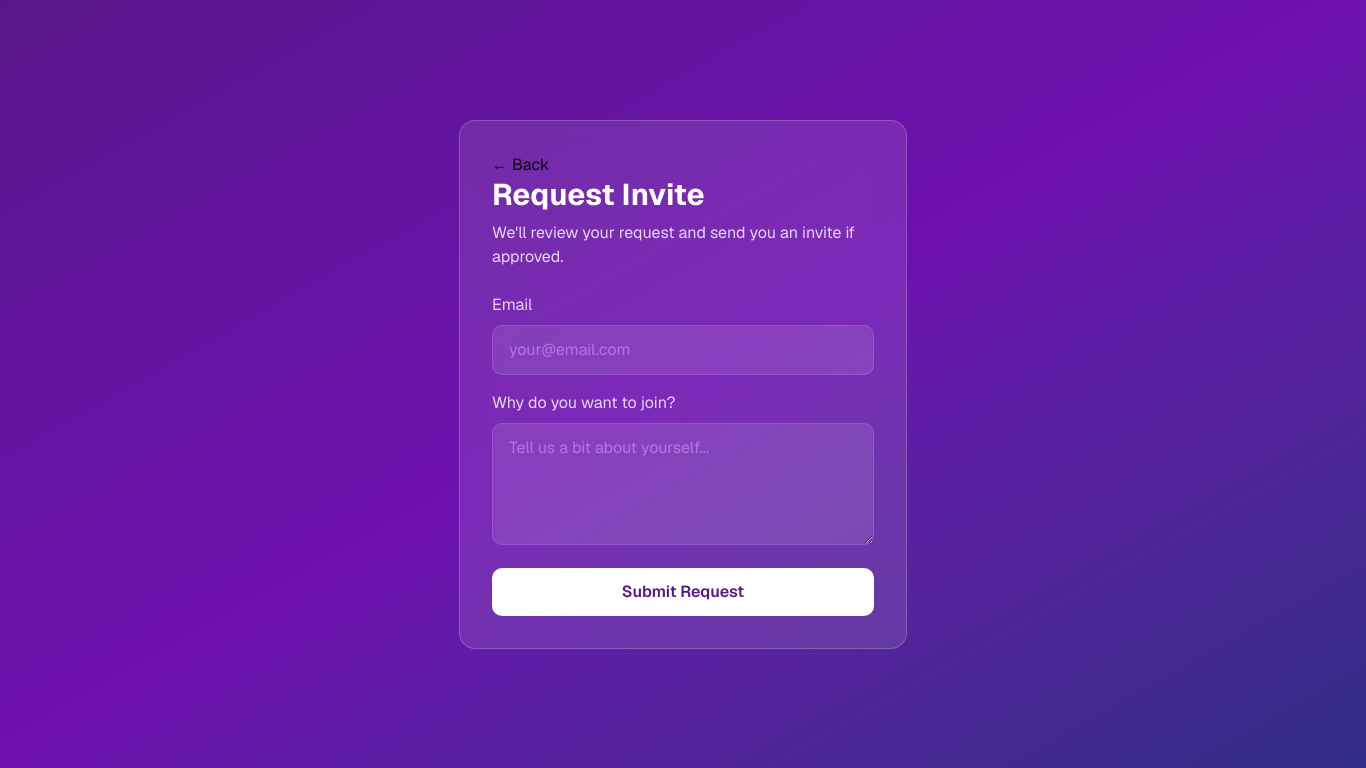
Test: RequestInvitePage › submits form successfully
This screenshot has width=1366, height=768.
Step 1. Type "test@example.com" into the field labelled "Email" → (683, 350), box [492,324,874,374]
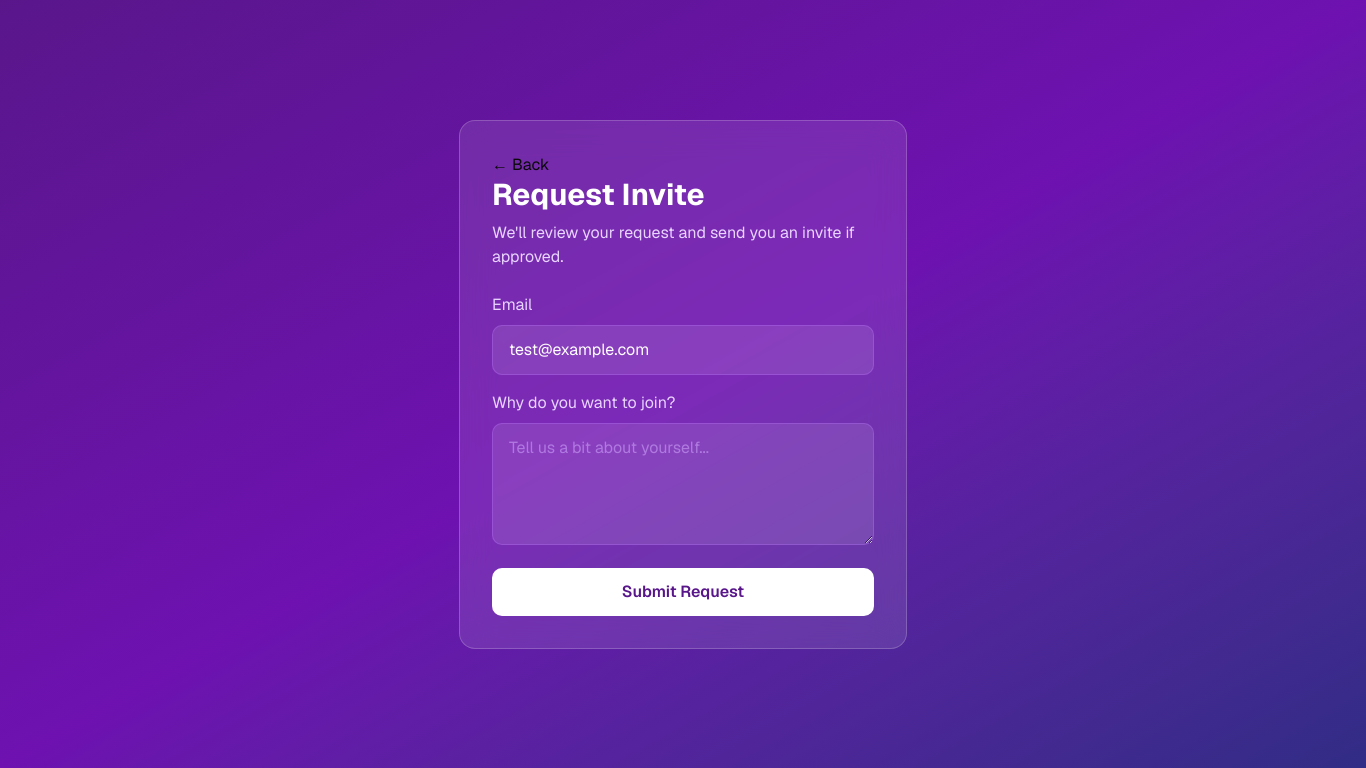
Step 2. Type "I love learning!" into the text box labelled "Why do you want to join?" → (683, 484), box [492,422,874,544]
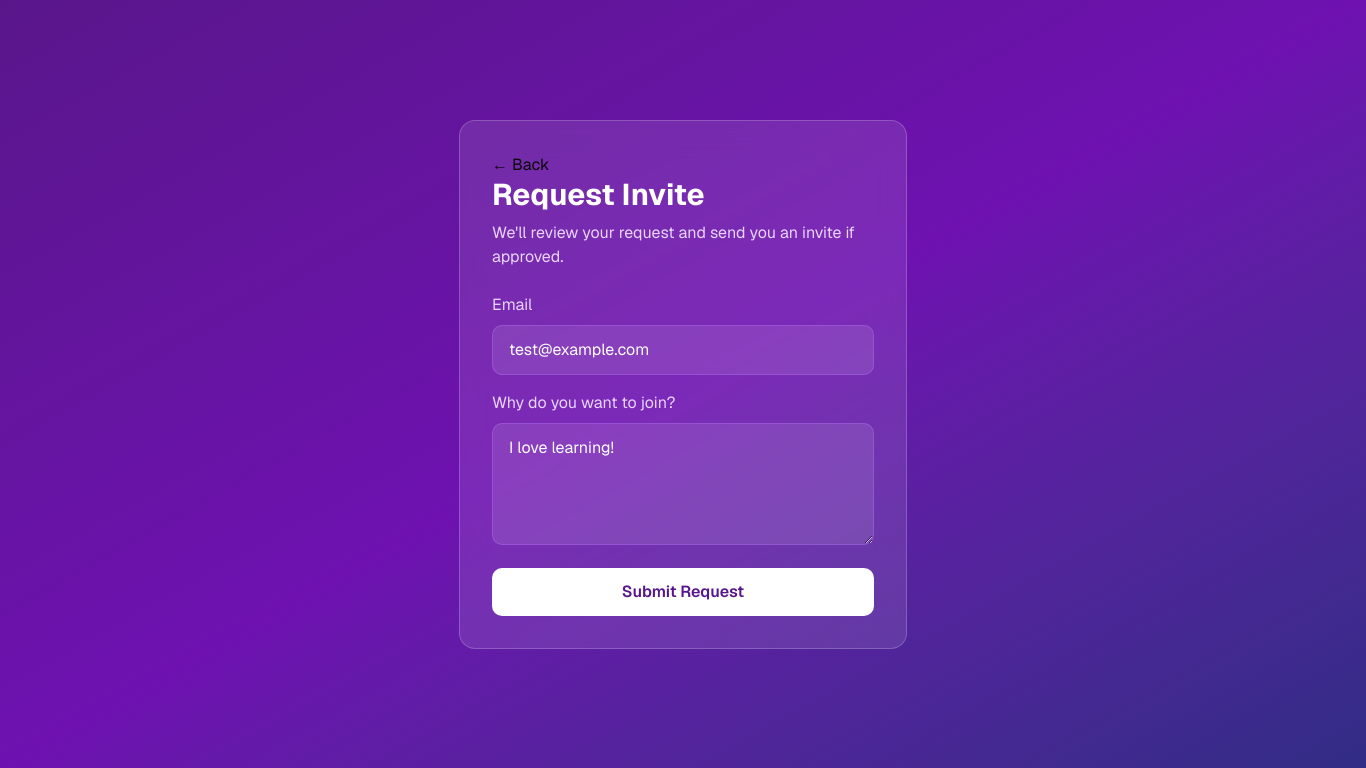
Step 3. Click the button "Submit Request" → (683, 592), box [492,568,874,616]
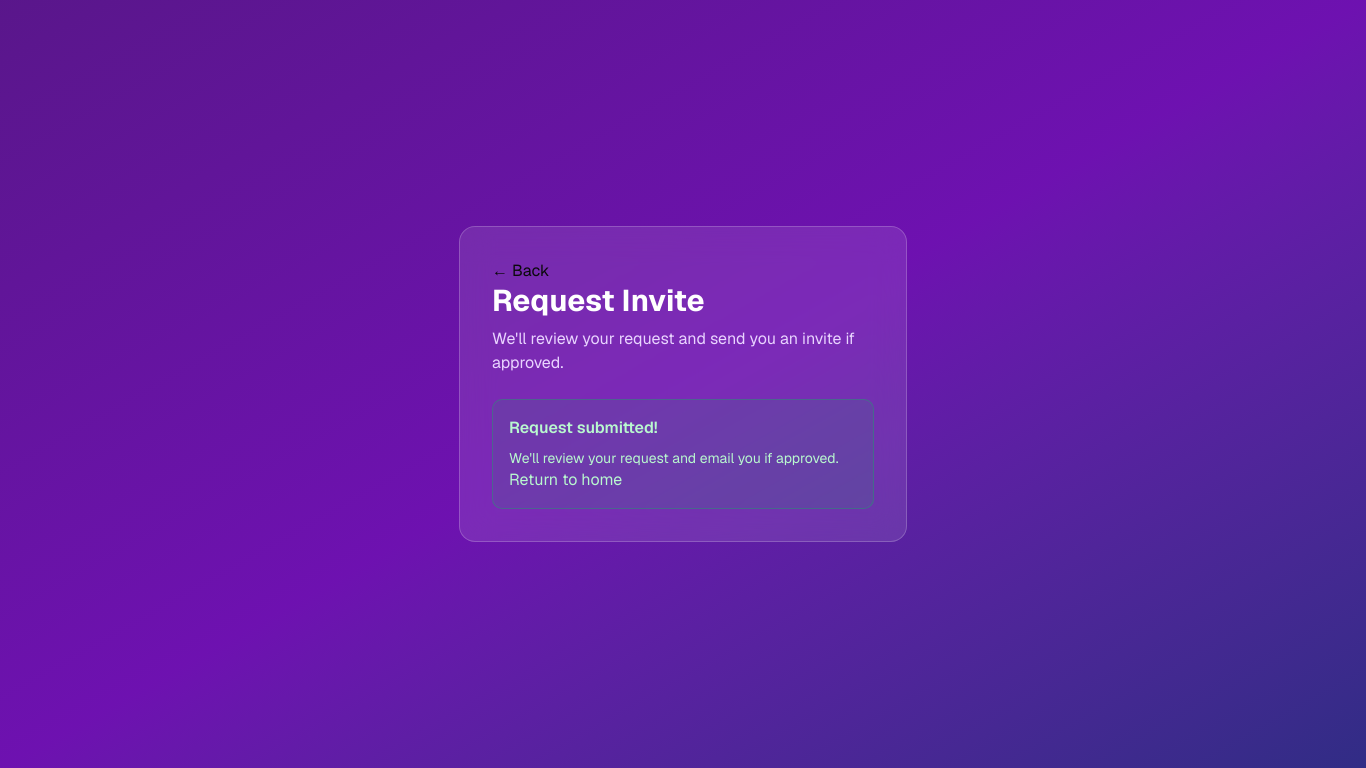
Now the text "Request submitted!" is shown, box [509,417,658,438]
